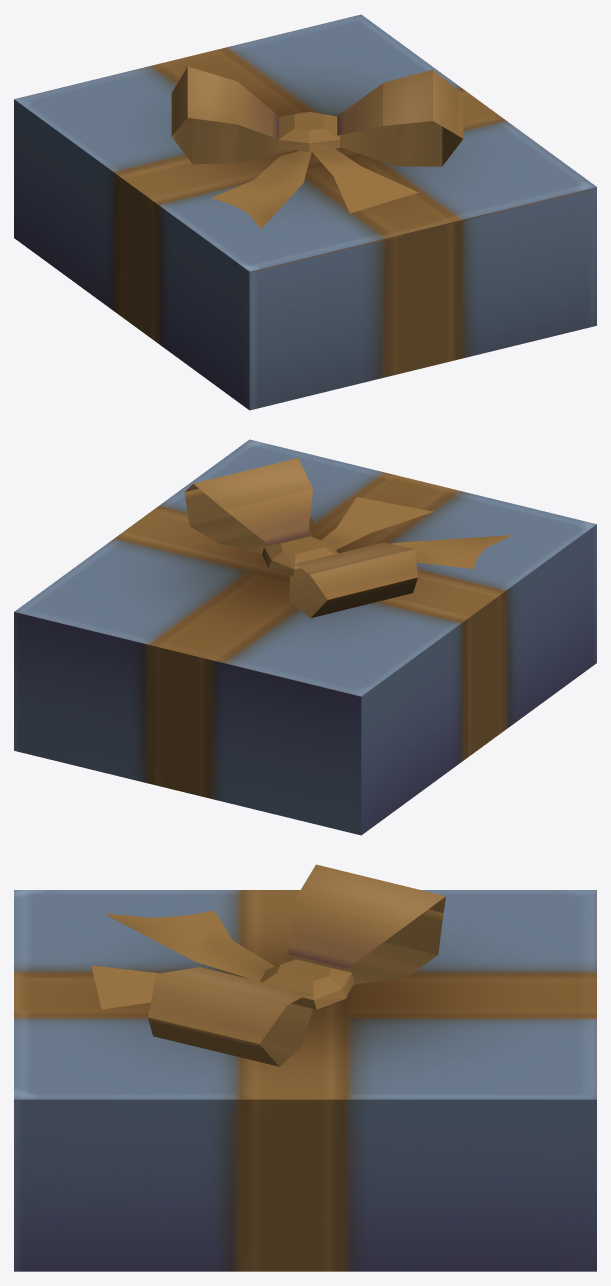
The model's file is scenes_around_box01a.FBX.
3 views of the same model, one above another, from view 1: azimuth 30°, elevation 25°; view 2: azimuth 150°, elevation 25°; view 3: azimuth 270°, elevation 25° (orthographic). The views are drawn at different scales.
Parts seen in each view (by area): view 1: scenes_around_box01a; view 2: scenes_around_box01a; view 3: scenes_around_box01a.
Part boxes in pixels (bbox=[...]): scenes_around_box01a: bbox=[14, 14, 596, 410]; scenes_around_box01a: bbox=[14, 439, 596, 835]; scenes_around_box01a: bbox=[14, 864, 596, 1271].
Bounding box in the file's own units: 6382 × 3314 × 7498.
